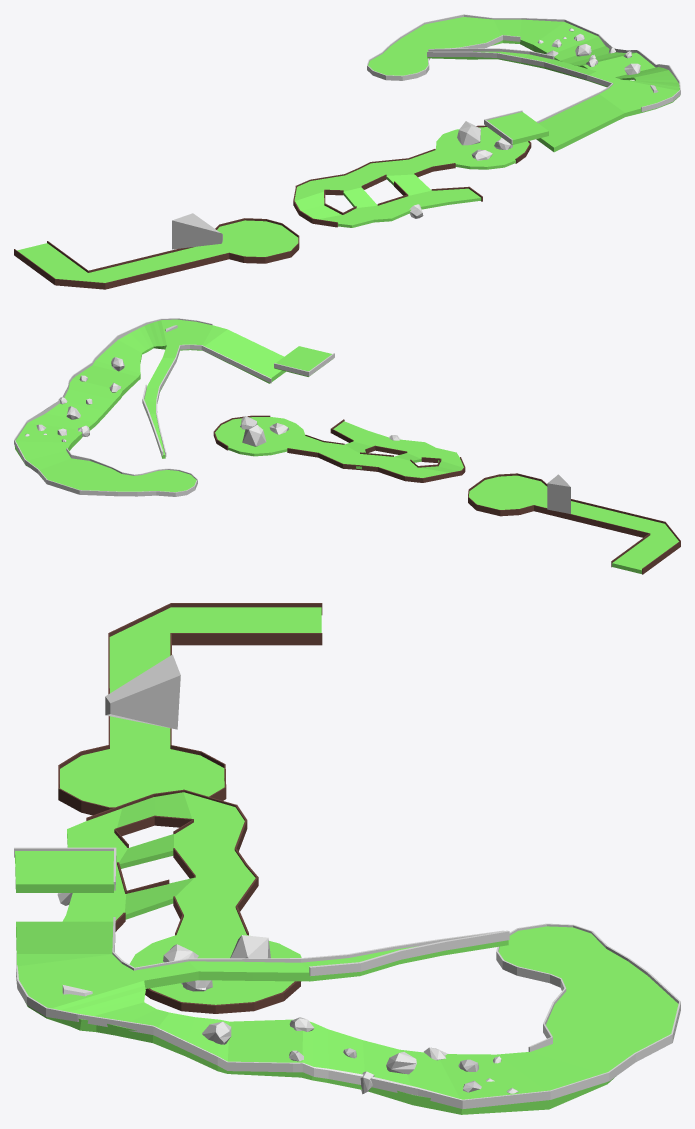
File: HoleSet03_Boulders.fbx
3 views of the same model, one above another, from view 1: azimuth 30°, elevation 25°; view 2: azimuth 150°, elevation 25°; view 3: azimuth 270°, elevation 25° (orthographic). The views are drawn at different scales.
Parts seen in each view (by area): view 1: Cube.056, Cube.054, Cube.059, Cube.057, Cube.060, Cube.055, Cube.061, Icosphere.066; view 2: Cube.056, Cube.054, Cube.059, Cube.057, Cube.060, Cube.055, Cube.061; view 3: Cube.056, Cube.054, Cube.059, Cube.057, Cube.060, Cube.055, Cube.061, Icosphere.066.
Boxes of the visible parts, bbox=[...] form: Cube.056: bbox=[368, 17, 680, 152]; Cube.054: bbox=[294, 127, 529, 227]; Cube.059: bbox=[17, 220, 298, 282]; Cube.057: bbox=[367, 14, 680, 144]; Cube.060: bbox=[14, 218, 299, 289]; Cube.055: bbox=[293, 125, 531, 227]; Cube.061: bbox=[172, 213, 222, 249]; Icosphere.066: bbox=[457, 121, 480, 145]; Cube.056: bbox=[14, 319, 332, 492]; Cube.054: bbox=[215, 417, 463, 477]; Cube.059: bbox=[469, 475, 678, 573]; Cube.057: bbox=[14, 318, 334, 496]; Cube.060: bbox=[468, 473, 680, 574]; Cube.055: bbox=[213, 415, 465, 482]; Cube.061: bbox=[547, 474, 570, 513]; Cube.056: bbox=[15, 851, 678, 1114]; Cube.054: bbox=[62, 792, 301, 1004]; Cube.059: bbox=[60, 607, 321, 807]; Cube.057: bbox=[14, 847, 680, 1109]; Cube.060: bbox=[58, 603, 322, 815]; Cube.055: bbox=[86, 789, 300, 1013]; Cube.061: bbox=[105, 654, 180, 729]; Icosphere.066: bbox=[230, 935, 270, 958].
Size of the model in its own units: 5563 by 661 by 2793.
